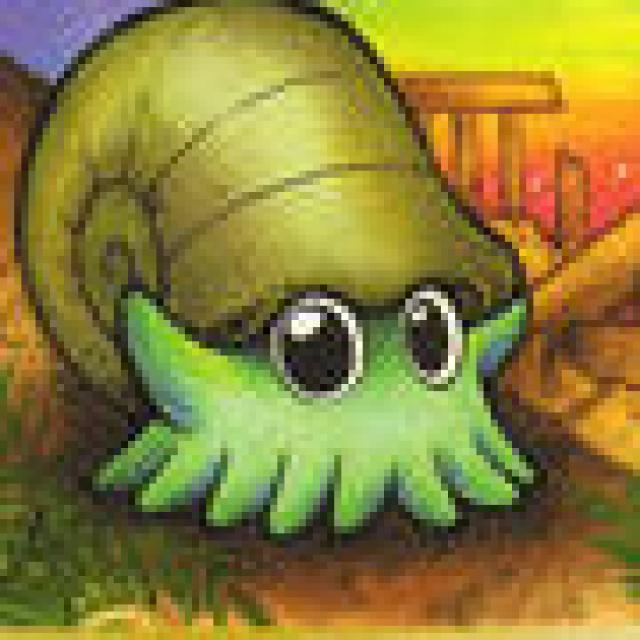Omanyte: (29, 3, 568, 571)
